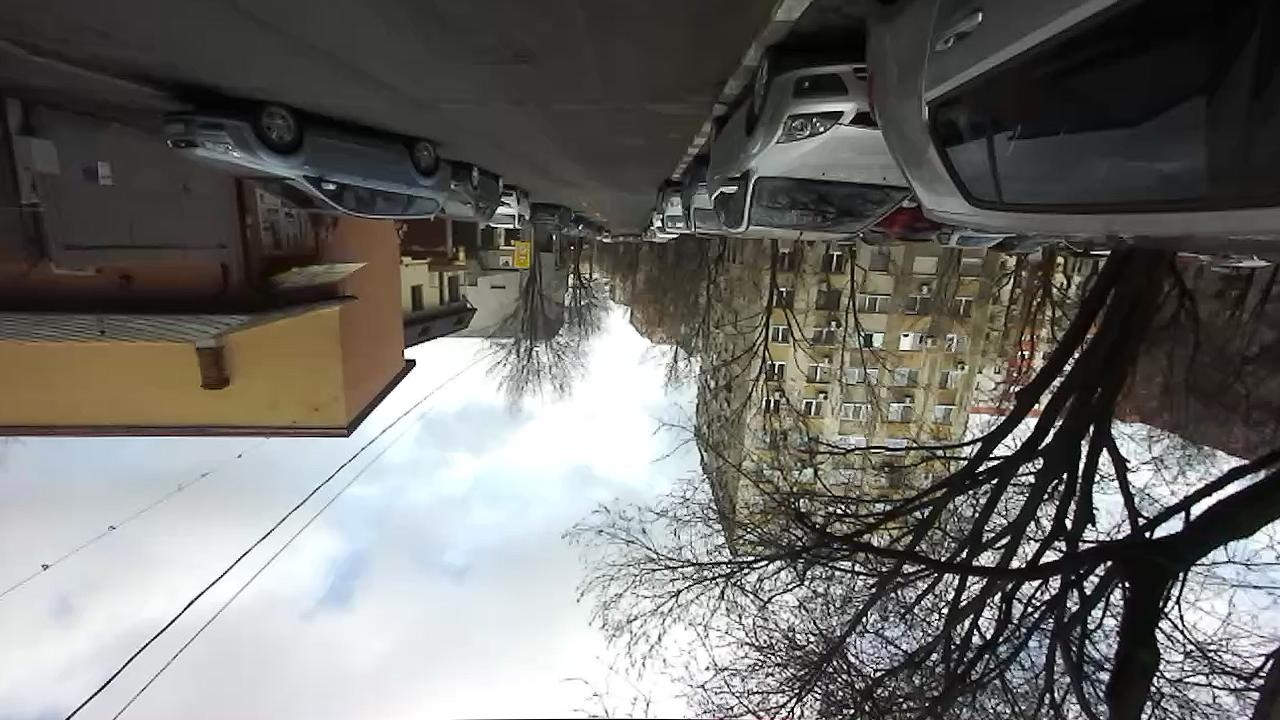pothole: (477, 39, 535, 72)
